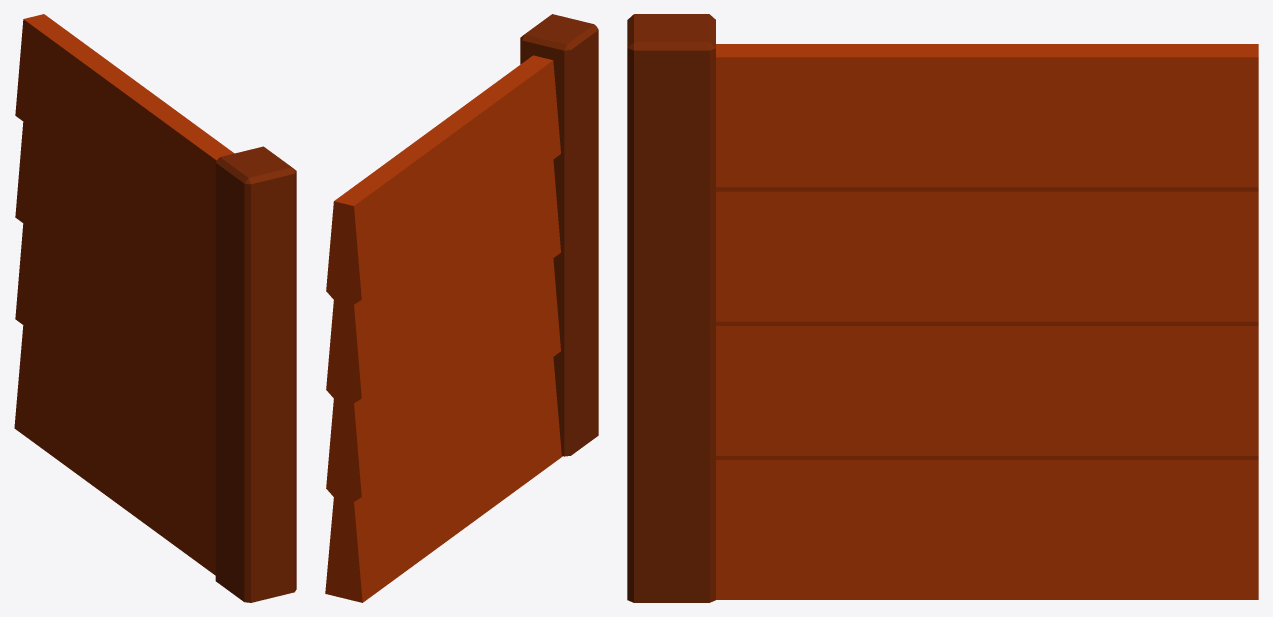
Rendered from NoiseBarrier_small.fbx.
3 views of the same model, side by side, from view 1: azimuth 30°, elevation 25°; view 2: azimuth 150°, elevation 25°; view 3: azimuth 270°, elevation 25° (orthographic). The views are drawn at different scales.
Visible parts, largest first — view 1: Small; view 2: Small; view 3: Small.
Part boxes in pixels (x1,y1,x2,y2): Small: (14, 14, 296, 602); Small: (325, 14, 598, 602); Small: (627, 14, 1258, 602).
Size of the model in its own units: 38.65 by 300 by 307.
